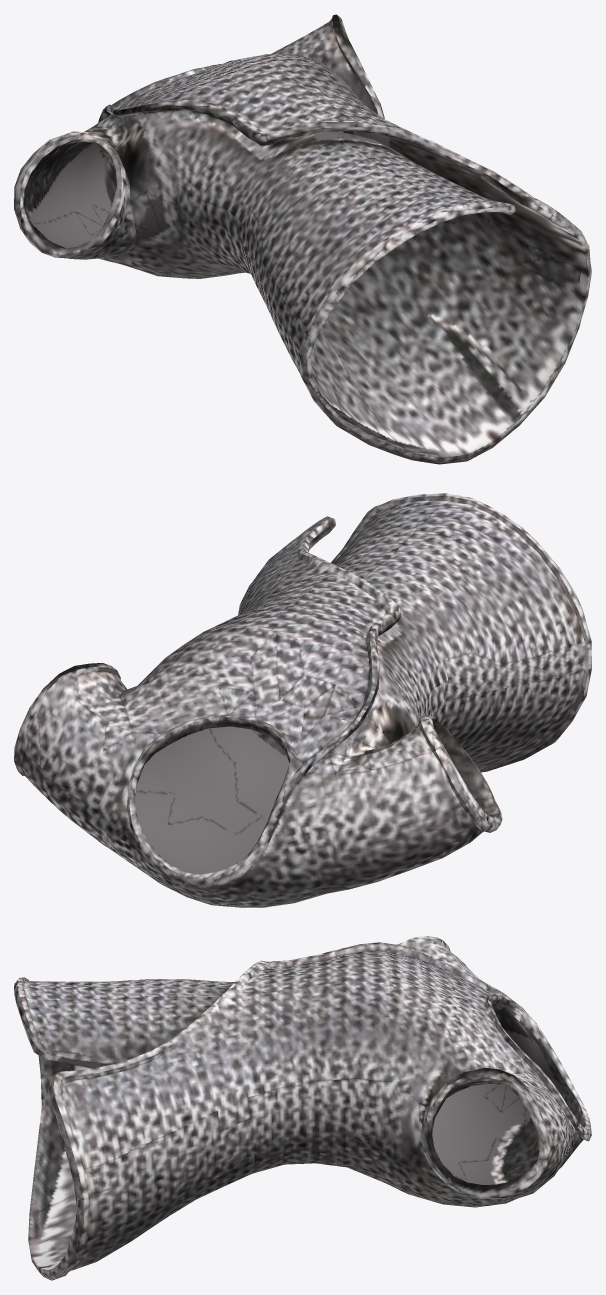
Rendered from item_mm9_10098.glb.
3 renders of one model, top to bottom at view 1: azimuth 30°, elevation 25°; view 2: azimuth 150°, elevation 25°; view 3: azimuth 270°, elevation 25°, orthographic. The views are drawn at different scales.
Visible parts, largest first — view 1: d10098; view 2: d10098; view 3: d10098.
Part boxes in pixels (<box>): d10098: <box>14,14,591,464</box>; d10098: <box>14,493,591,907</box>; d10098: <box>14,936,591,1280</box>.
Size of the model in its own units: 0.8116 by 0.535 by 1.02.
1 material, 1 textured.
